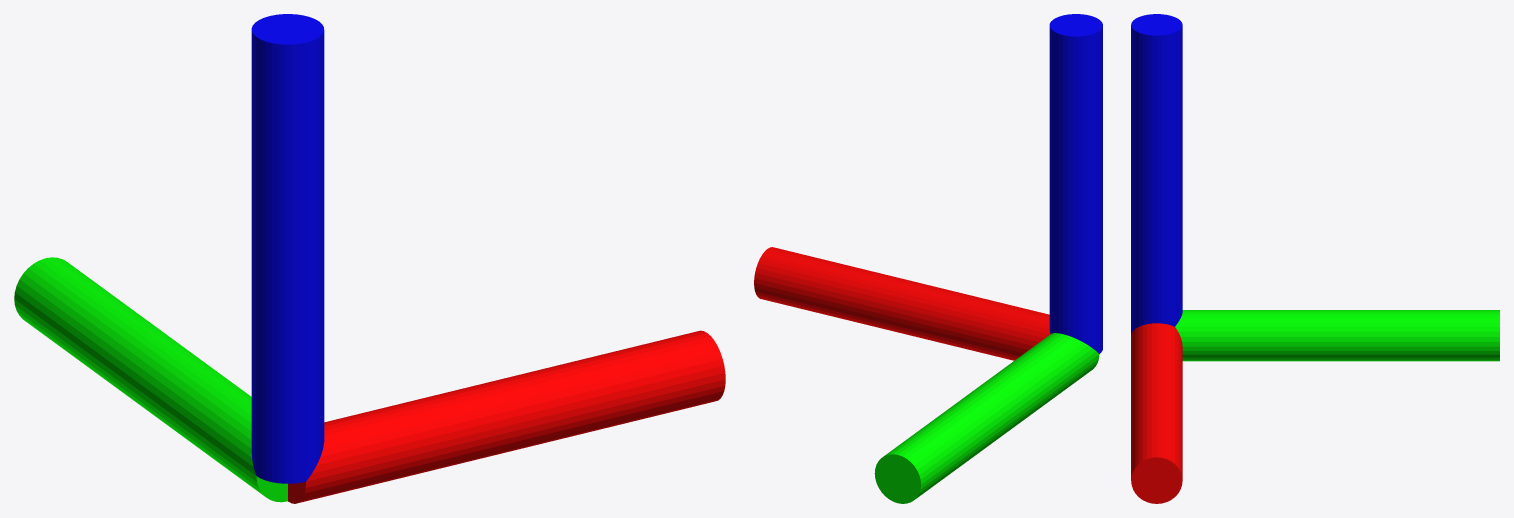
Rendered from axis.fbx.
3 views of the same model, side by side, from view 1: azimuth 30°, elevation 25°; view 2: azimuth 150°, elevation 25°; view 3: azimuth 270°, elevation 25° (orthographic). The views are drawn at different scales.
Parts seen in each view (by area): view 1: Cylinder, Cylinder.001, Cylinder.002; view 2: Cylinder, Cylinder.001, Cylinder.002; view 3: Cylinder.002, Cylinder, Cylinder.001.
Part boxes in pixels (x1,y1,x2,y2): Cylinder: (251, 14, 324, 483); Cylinder.001: (288, 330, 725, 503); Cylinder.002: (14, 257, 287, 502); Cylinder: (1049, 14, 1102, 353); Cylinder.001: (754, 247, 1050, 360); Cylinder.002: (874, 333, 1099, 503); Cylinder.002: (1175, 310, 1499, 361); Cylinder: (1131, 14, 1182, 335); Cylinder.001: (1131, 323, 1182, 503).
Bounding box in the file's own units: 43 × 43 × 43.
